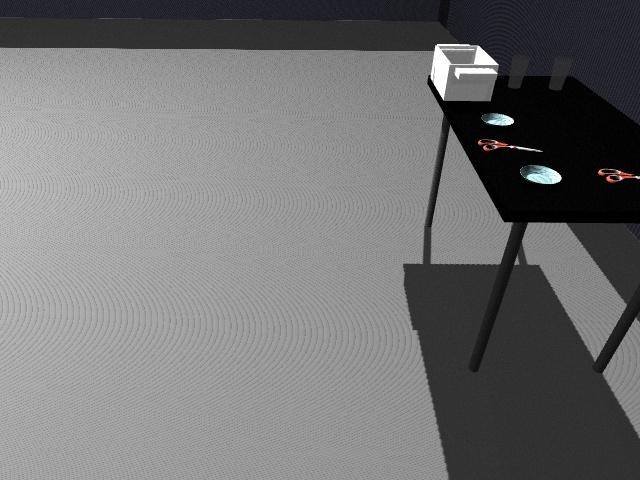cup: (548, 55, 573, 92), (508, 54, 530, 90)
plate: (520, 165, 562, 185), (481, 113, 515, 126)
scissors: (477, 138, 541, 153), (598, 168, 637, 182)
